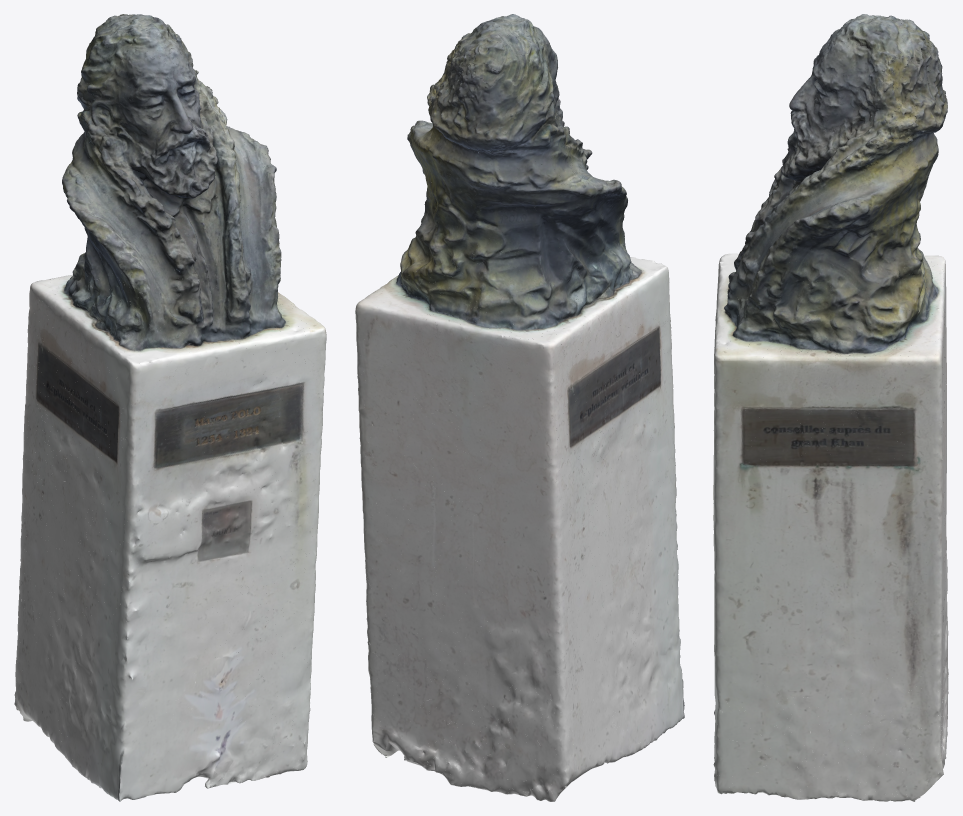
Rendered from marco-polo-bust.glb.
The picture shows the model from 3 angles, left to right: view 1: azimuth 30°, elevation 25°; view 2: azimuth 150°, elevation 25°; view 3: azimuth 270°, elevation 25°; orthographic projection. The views are drawn at different scales.
Visible parts, largest first — view 1: model_2, model_3, model_0, model_1; view 2: model_2, model_1, model_3, model_0; view 3: model_2, model_1, model_0, model_3.
Part boxes in pixels (x1,y1,x2,y2): model_2: [22, 14, 322, 778]; model_3: [14, 128, 326, 801]; model_0: [14, 14, 314, 788]; model_1: [15, 14, 325, 692]; model_2: [357, 16, 677, 766]; model_1: [355, 15, 644, 788]; model_3: [356, 100, 684, 799]; model_0: [368, 14, 648, 801]; model_2: [713, 15, 947, 796]; model_1: [715, 14, 948, 710]; model_0: [713, 14, 946, 801]; model_3: [713, 127, 948, 801].
Size of the model in its own units: 6.64 by 21.43 by 6.22.
Materials: 1 (1 with a texture image).
